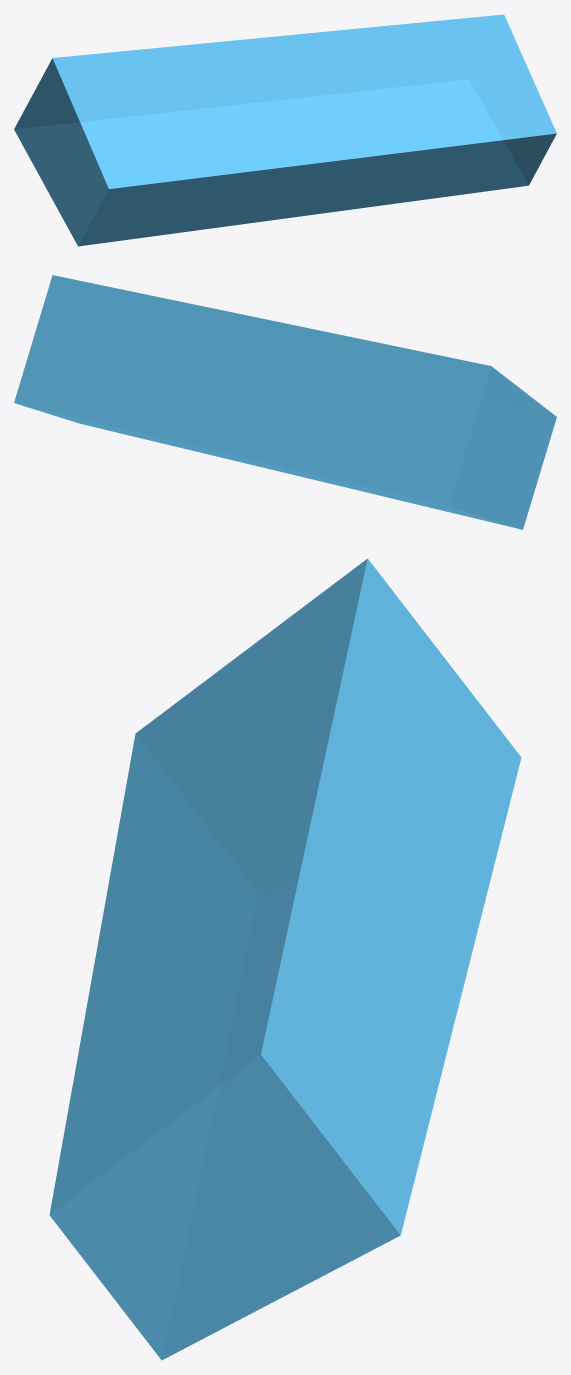
File: Event_421556567_HErechit_53.fbx
3 views of the same model, one above another, from view 1: azimuth 30°, elevation 25°; view 2: azimuth 150°, elevation 25°; view 3: azimuth 270°, elevation 25° (orthographic). The views are drawn at different scales.
Visible parts, largest first — view 1: Model; view 2: Model; view 3: Model.
Part boxes in pixels (box(x1,y1,x2,y2)): Model: box(14, 14, 556, 246); Model: box(14, 275, 556, 529); Model: box(49, 558, 521, 1360).
Bounding box in the file's own units: 1.06 × 0.4614 × 0.5097.
